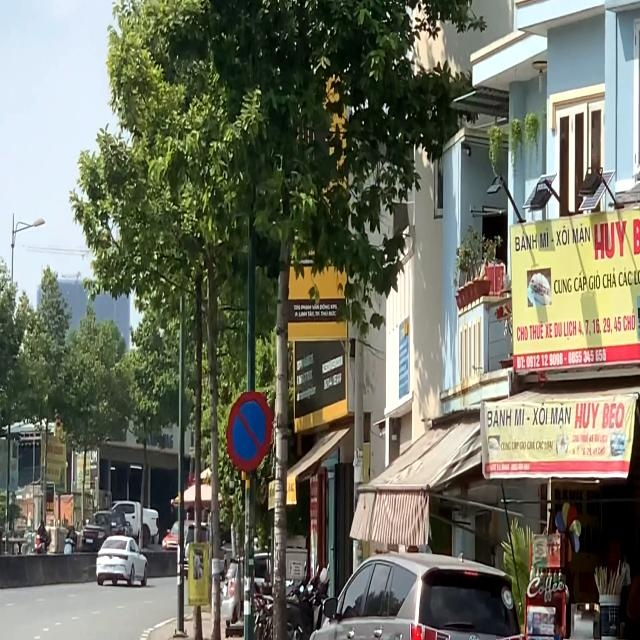bien_cam: (224, 392, 277, 482)
